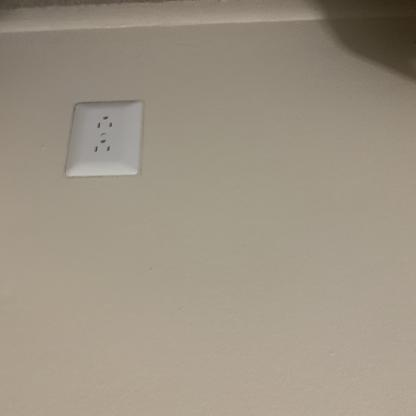OUTLET: (65, 100, 145, 176)
